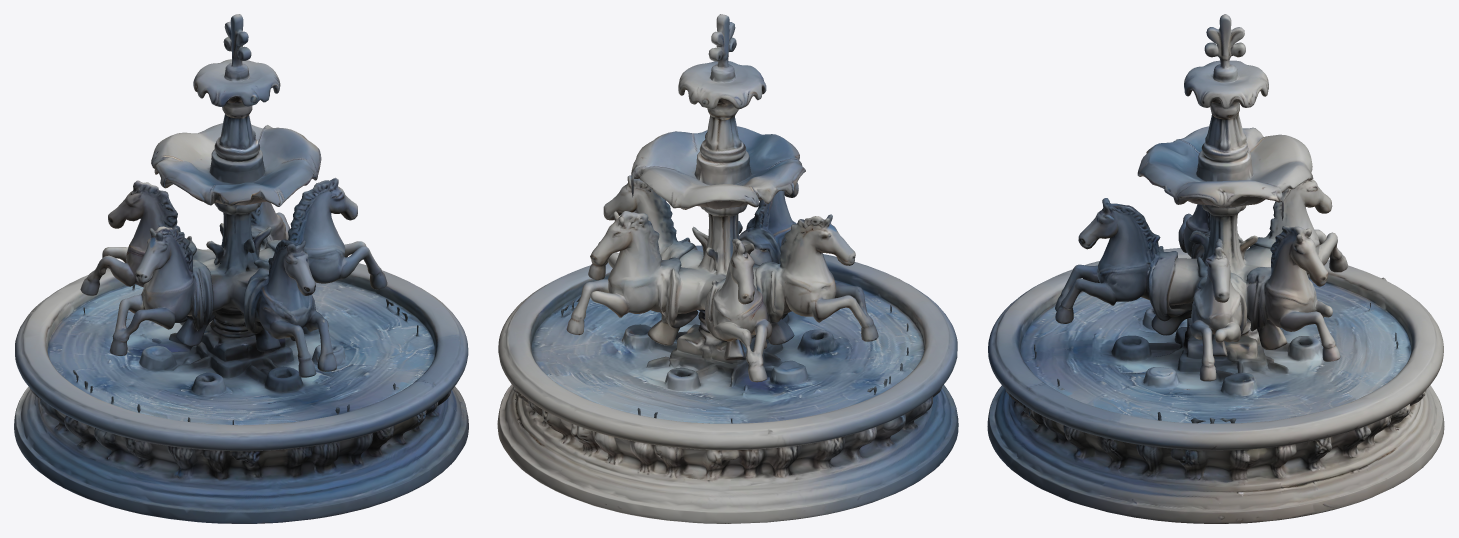
The model's file is city-fountain-horse.glb.
3 views of the same model, side by side, from view 1: azimuth 30°, elevation 25°; view 2: azimuth 150°, elevation 25°; view 3: azimuth 270°, elevation 25° (orthographic).
Visible parts, largest first — view 1: tripo_node_f5e42ca2-d0c6-4f80-8bb3-e64fde5931ad; view 2: tripo_node_f5e42ca2-d0c6-4f80-8bb3-e64fde5931ad; view 3: tripo_node_f5e42ca2-d0c6-4f80-8bb3-e64fde5931ad.
Part boxes in pixels (x1=…): tripo_node_f5e42ca2-d0c6-4f80-8bb3-e64fde5931ad: x1=14, y1=14, x2=468, y2=523; tripo_node_f5e42ca2-d0c6-4f80-8bb3-e64fde5931ad: x1=497, y1=14, x2=958, y2=523; tripo_node_f5e42ca2-d0c6-4f80-8bb3-e64fde5931ad: x1=987, y1=14, x2=1444, y2=523.
Size of the model in its own units: 4.85 by 5 by 4.84.
Materials: 1 (1 with a texture image).
